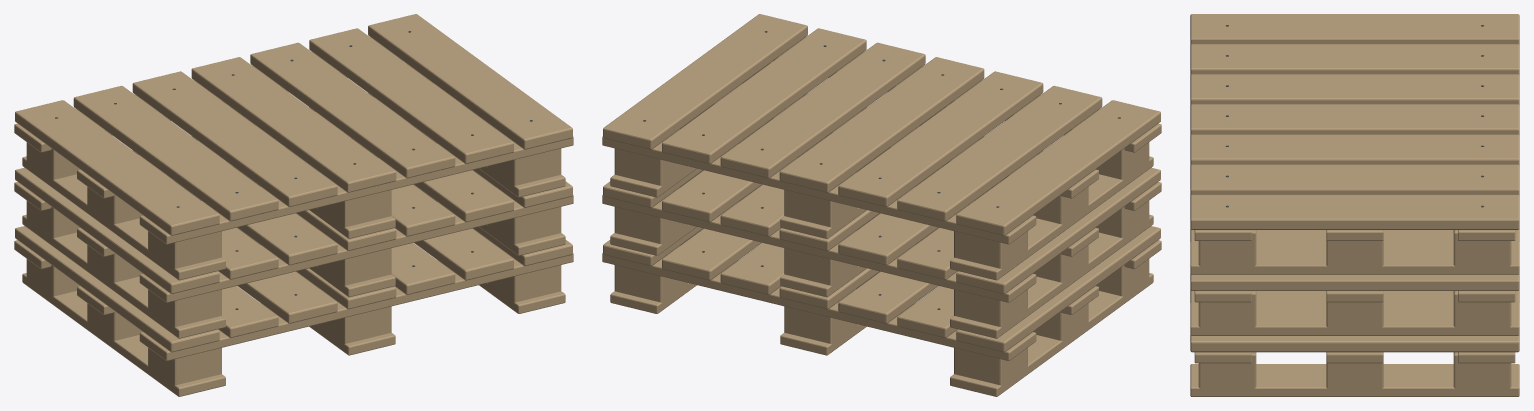
Rendered from pallet_stack.glb.
The picture shows the model from 3 angles, left to right: view 1: azimuth 30°, elevation 25°; view 2: azimuth 150°, elevation 25°; view 3: azimuth 270°, elevation 25°; orthographic projection. The views are drawn at different scales.
Visible parts, largest first — view 1: Structure; view 2: Structure; view 3: Structure.
Boxes of the visible parts, x1,y1,x2,y2 form: Structure: [14, 14, 573, 396]; Structure: [602, 14, 1161, 396]; Structure: [1190, 14, 1519, 396].
Bounding box in the file's own units: 1.2 × 0.489 × 0.8.
